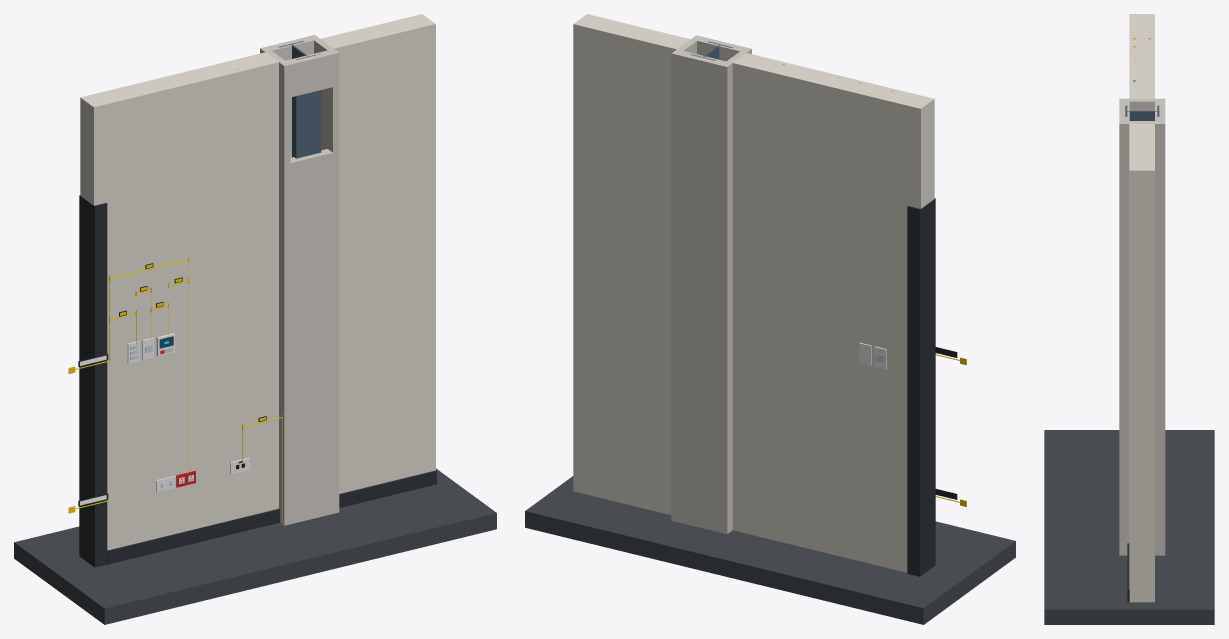
Rendered from mep_wall.obj.
3 renders of one model, left to right at view 1: azimuth 30°, elevation 25°; view 2: azimuth 150°, elevation 25°; view 3: azimuth 270°, elevation 25°, orthographic. The views are drawn at different scales.
Size of the model in its own units: 2500 by 2900 by 1000.
